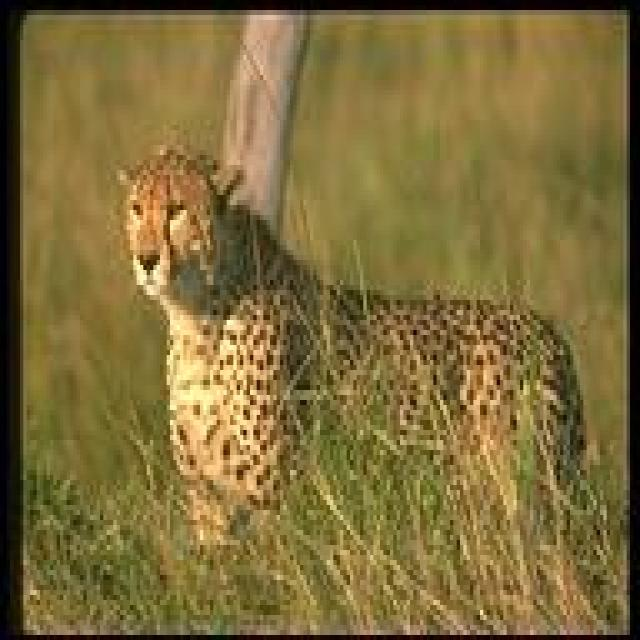Leopard: (112, 135, 593, 566)
